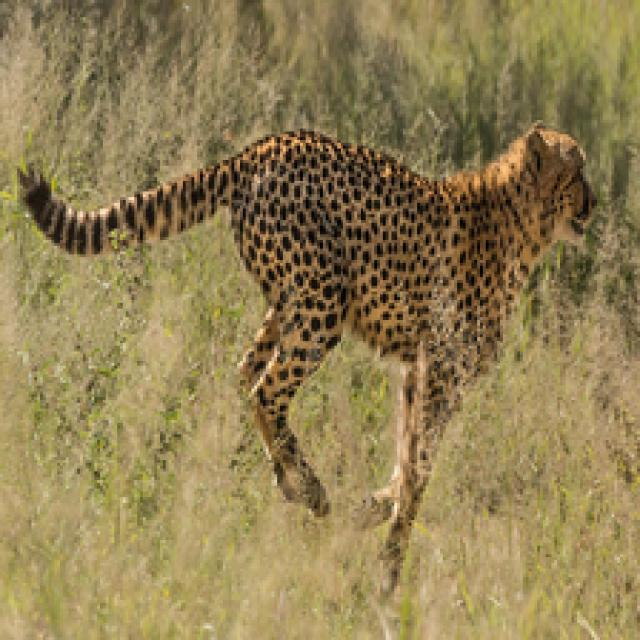cheetah: (15, 93, 639, 535)
